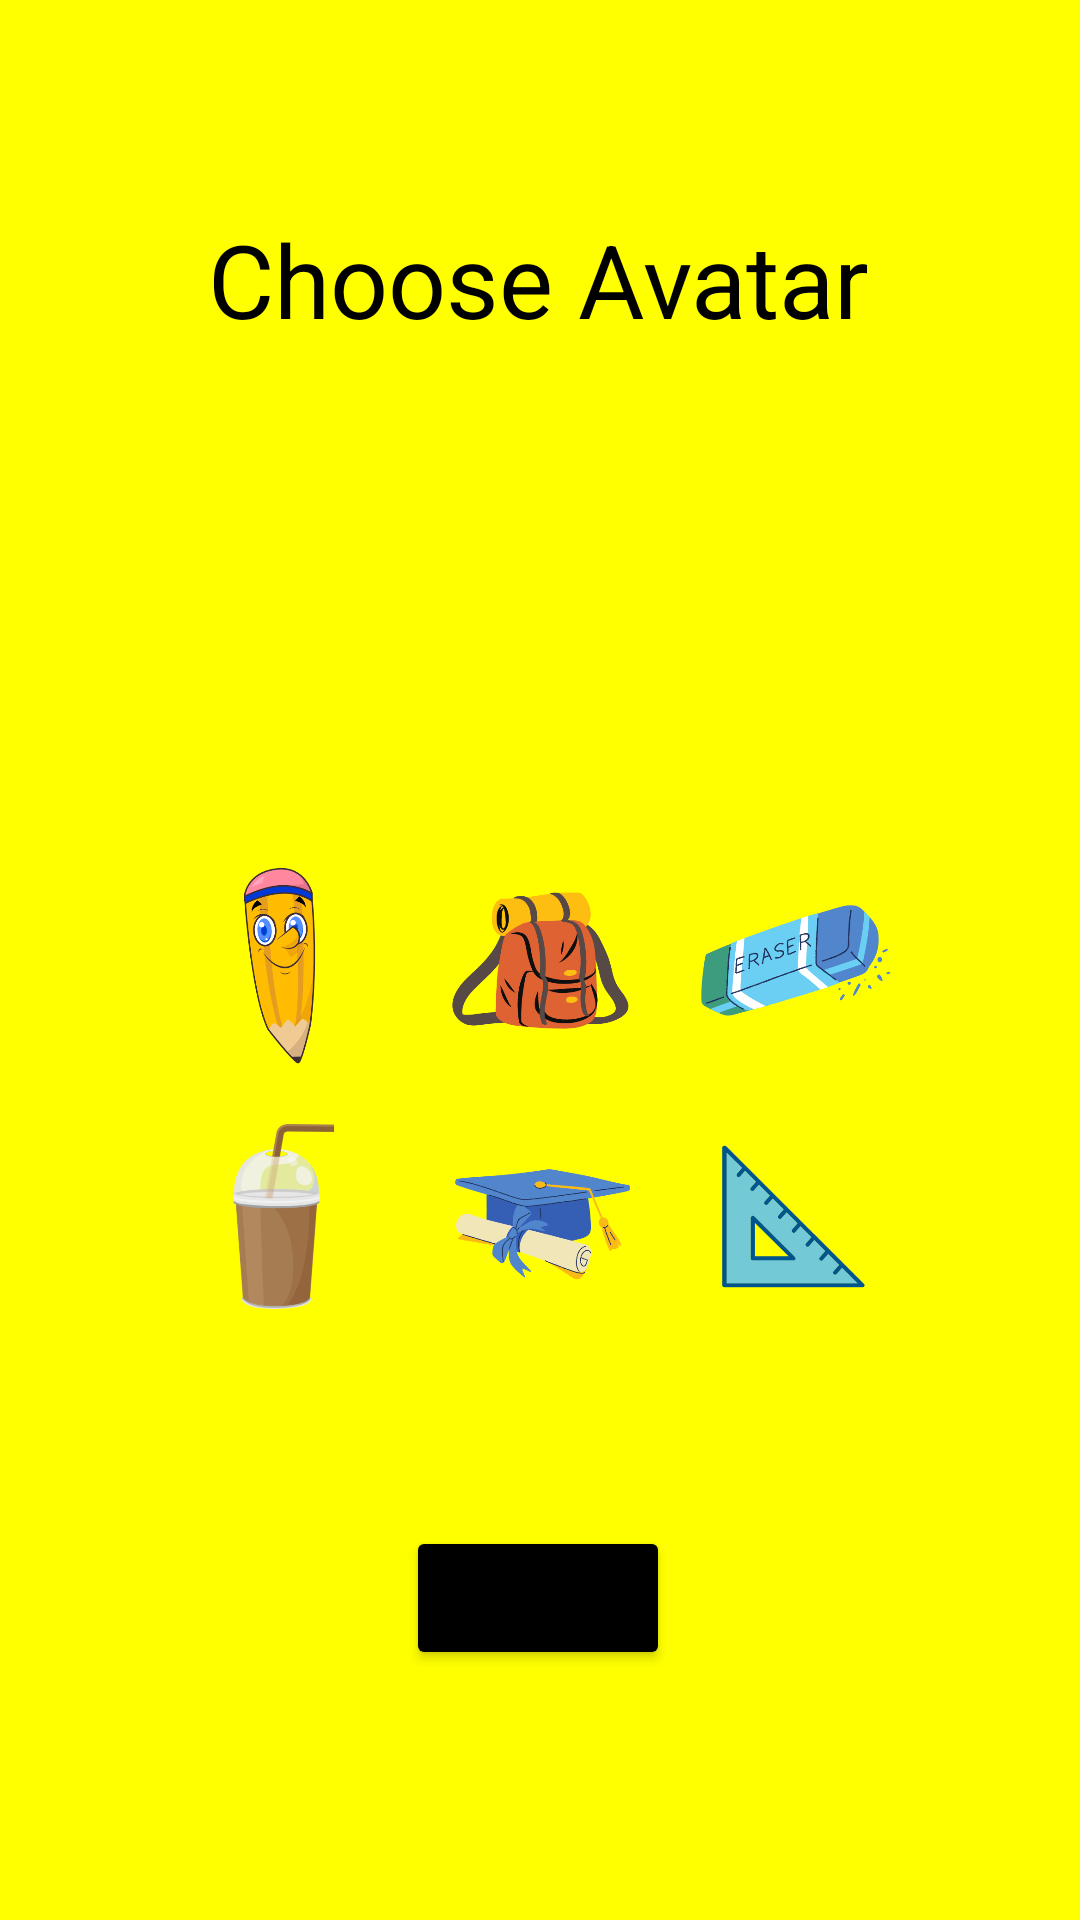

Point at icon controls on the screen. Image size 1080x1920, points as [x,y].
bag: [540,960]
hat: [542,1224]
milk: [283,1216]
ruler: [793,1216]
